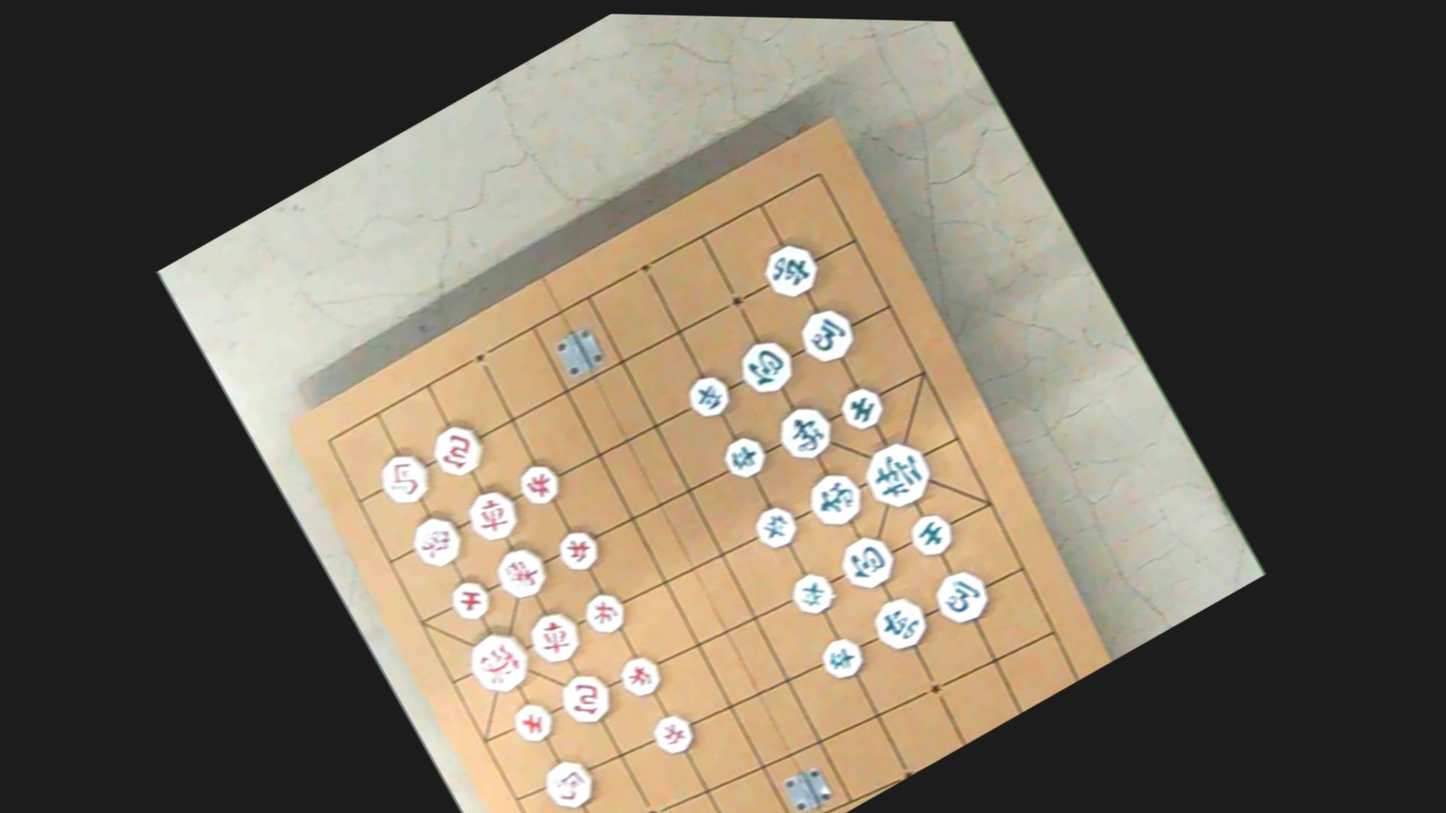cha_green: (755, 236, 826, 306), (865, 589, 936, 658)
cha_red: (522, 604, 589, 669), (460, 483, 527, 548)
jol_green: (814, 631, 871, 686), (681, 368, 737, 423), (717, 429, 772, 483), (749, 501, 803, 554), (786, 568, 840, 620)
jol_red: (614, 649, 668, 702), (578, 587, 632, 639), (513, 458, 566, 510), (648, 709, 700, 761), (552, 524, 605, 575)
ma_green: (792, 300, 862, 369), (927, 563, 997, 630)
ma_red: (372, 445, 438, 510), (538, 752, 602, 813)
po_green: (731, 331, 802, 400), (833, 528, 902, 596)
po_red: (554, 666, 621, 732), (425, 417, 490, 482)
sa_green: (903, 507, 959, 561), (835, 382, 889, 434)
sa_red: (444, 573, 497, 626), (507, 696, 559, 747)
sang_green: (770, 397, 841, 467), (801, 465, 870, 534)
sang_red: (489, 539, 556, 605), (405, 509, 470, 573)
wang_green: (854, 433, 941, 517)
wang_red: (459, 623, 539, 701)
